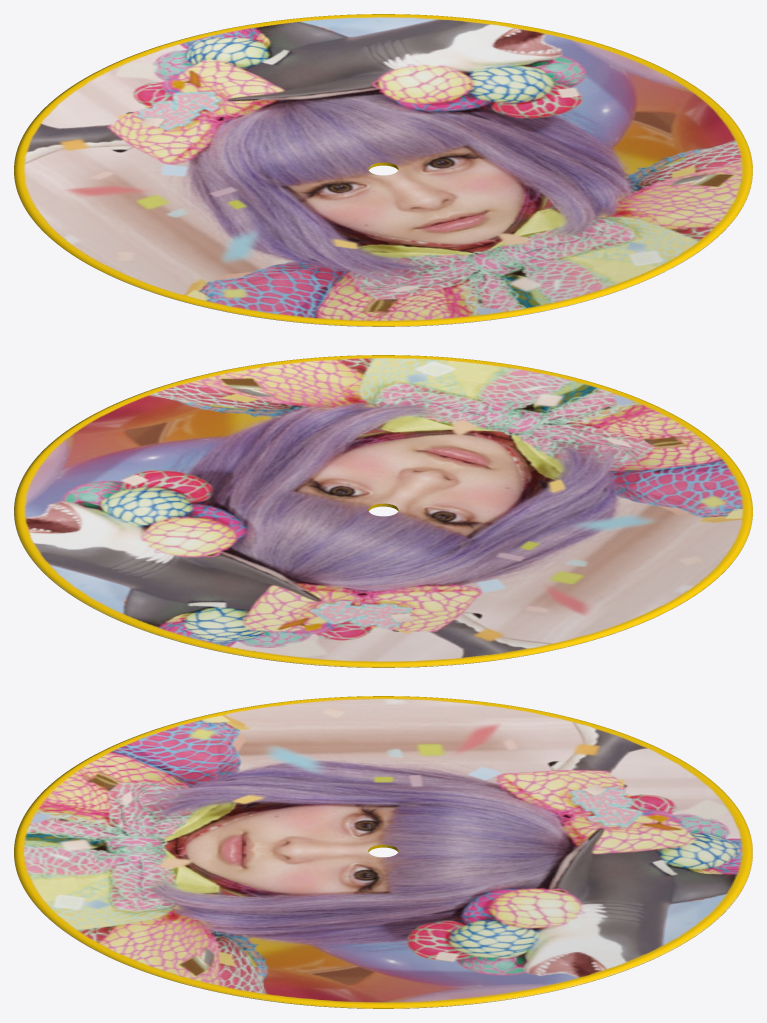
The model's file is vinyl_7_small.dae.
3 renders of one model, top to bottom at view 1: azimuth 30°, elevation 25°; view 2: azimuth 150°, elevation 25°; view 3: azimuth 270°, elevation 25°, orthographic.
Visible parts, largest first — view 1: _7_VINYL_Normal_smallhole_unify_焼成後確認用; view 2: _7_VINYL_Normal_smallhole_unify_焼成後確認用; view 3: _7_VINYL_Normal_smallhole_unify_焼成後確認用.
Part boxes in pixels (box(x1,y1,x2,y2)): _7_VINYL_Normal_smallhole_unify_焼成後確認用: box(14, 14, 752, 326); _7_VINYL_Normal_smallhole_unify_焼成後確認用: box(14, 355, 752, 667); _7_VINYL_Normal_smallhole_unify_焼成後確認用: box(14, 696, 752, 1008).
Bounding box in the file's own units: 17 × 0.1191 × 17.
Materials: 1 (1 with a texture image).
